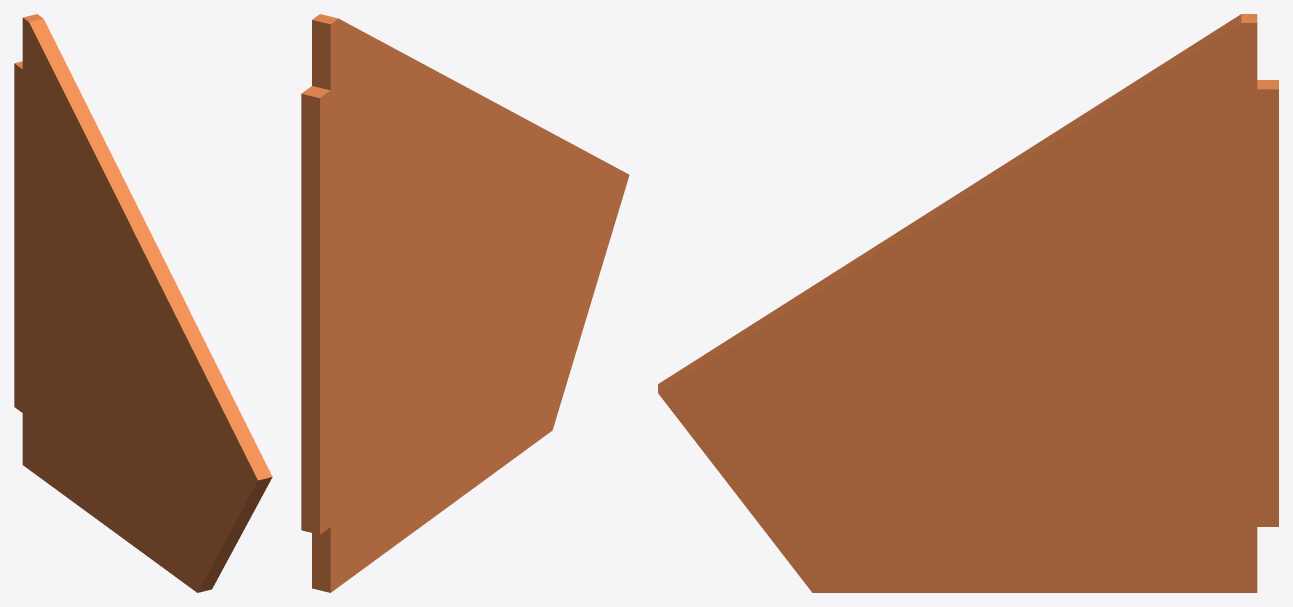
File: TailFin.fbx
3 renders of one model, left to right at view 1: azimuth 30°, elevation 25°; view 2: azimuth 150°, elevation 25°; view 3: azimuth 270°, elevation 25°, orthographic. The views are drawn at different scales.
Parts seen in each view (by area): view 1: TailFin; view 2: TailFin; view 3: TailFin.
Boxes of the visible parts, left/top/right/bottom form: TailFin: left=14, top=14, right=272, bottom=592; TailFin: left=301, top=14, right=629, bottom=592; TailFin: left=658, top=14, right=1278, bottom=592.
Size of the model in its own units: 0.1998 by 5.86 by 5.79.
